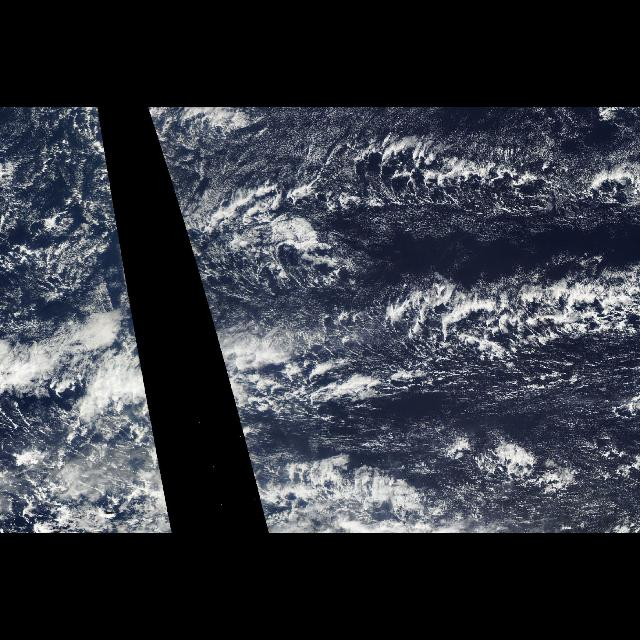Fish: (293, 135, 639, 399)
Gravel: (324, 116, 636, 468)
